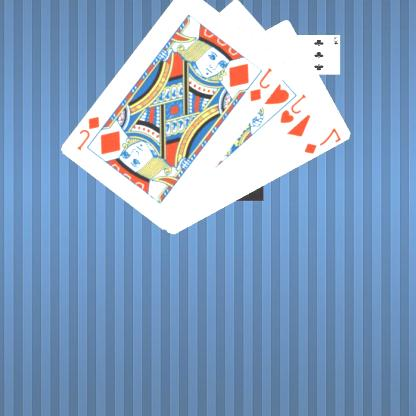7D: (303, 125, 344, 156)
JD: (248, 64, 276, 103), (76, 113, 104, 152)
JH: (279, 91, 310, 125)
